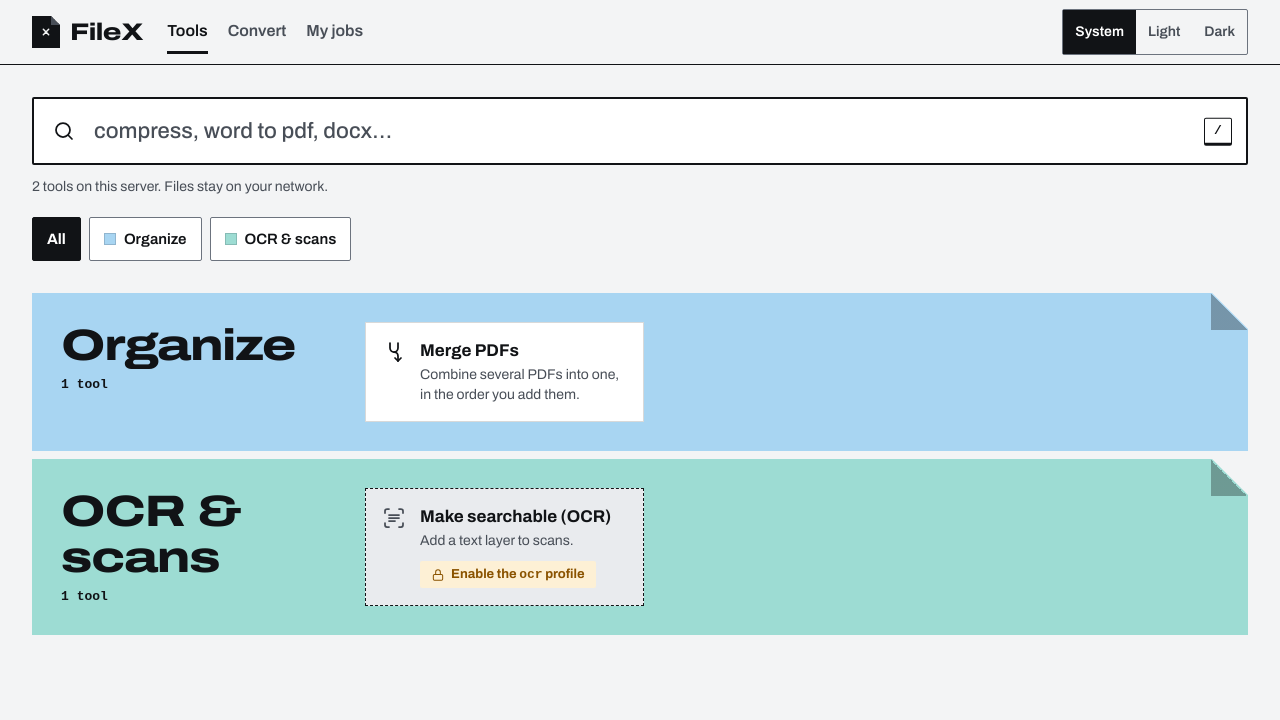
Scenario: catalog › search finds pdf.merge by 'combine' and 'pdf', and says when nothing matches
The image size is (1280, 720).
Expected: the text "Merge PDFs" is shown, [420,341,519,360]
Type "combine" into the search field named "Search tools". click: (640, 131)
box: [32,97,1248,165]
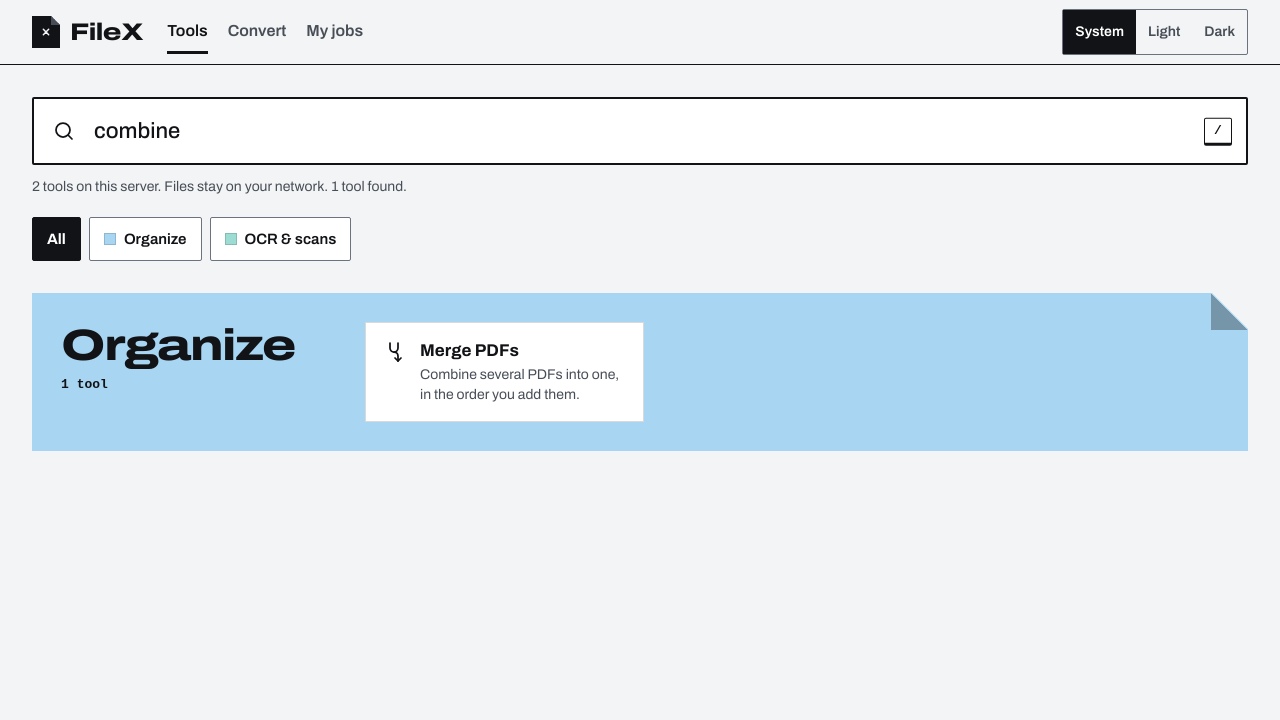
Expected: the text "Merge PDFs" is shown, [420,341,519,360]
Now the link "Make searchable (OCR)" is gone
Now the text "1 tool found." is shown, box [331,179,407,194]
Replace the text in the search field named "Search tools" with "pdf". click: (640, 131)
box: [32,97,1248,165]
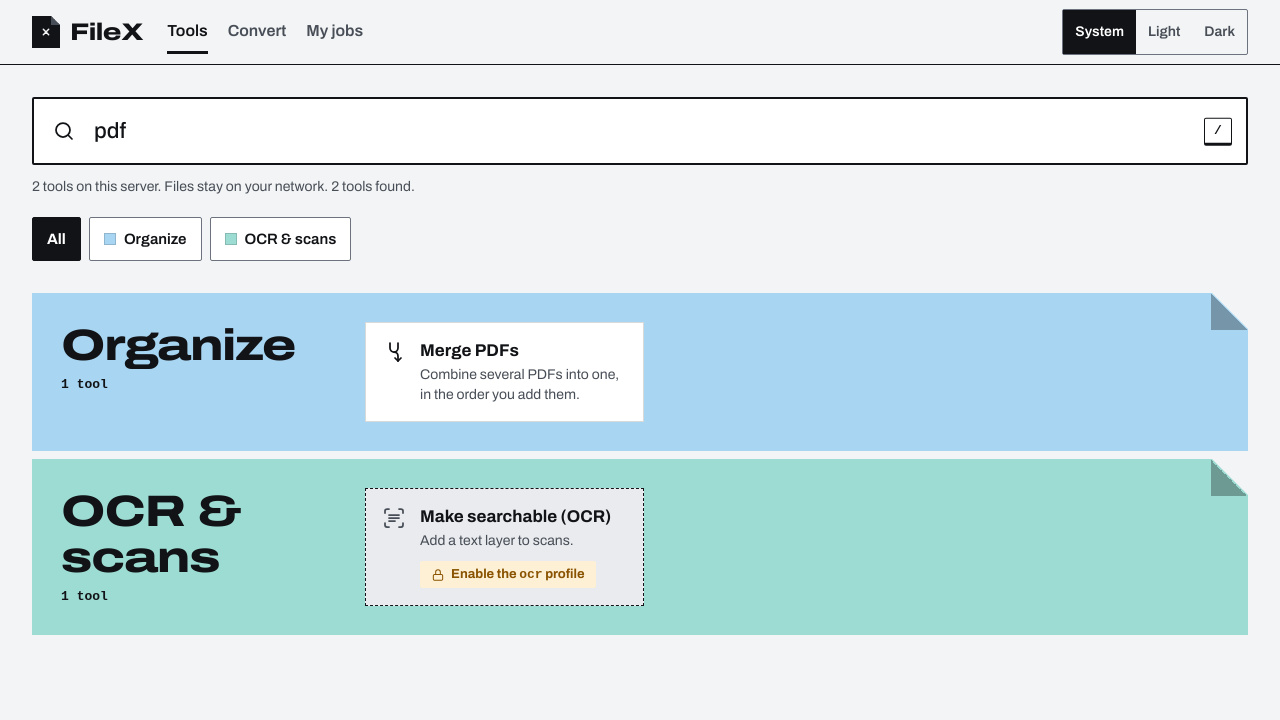
Expected: the text "Merge PDFs" is shown, [420,341,519,360]
Now the text "2 tools found." is shown, box [331,179,415,194]
Replace the text in the search field named "Search tools" with "zzz". click: (640, 131)
box: [32,97,1248,165]
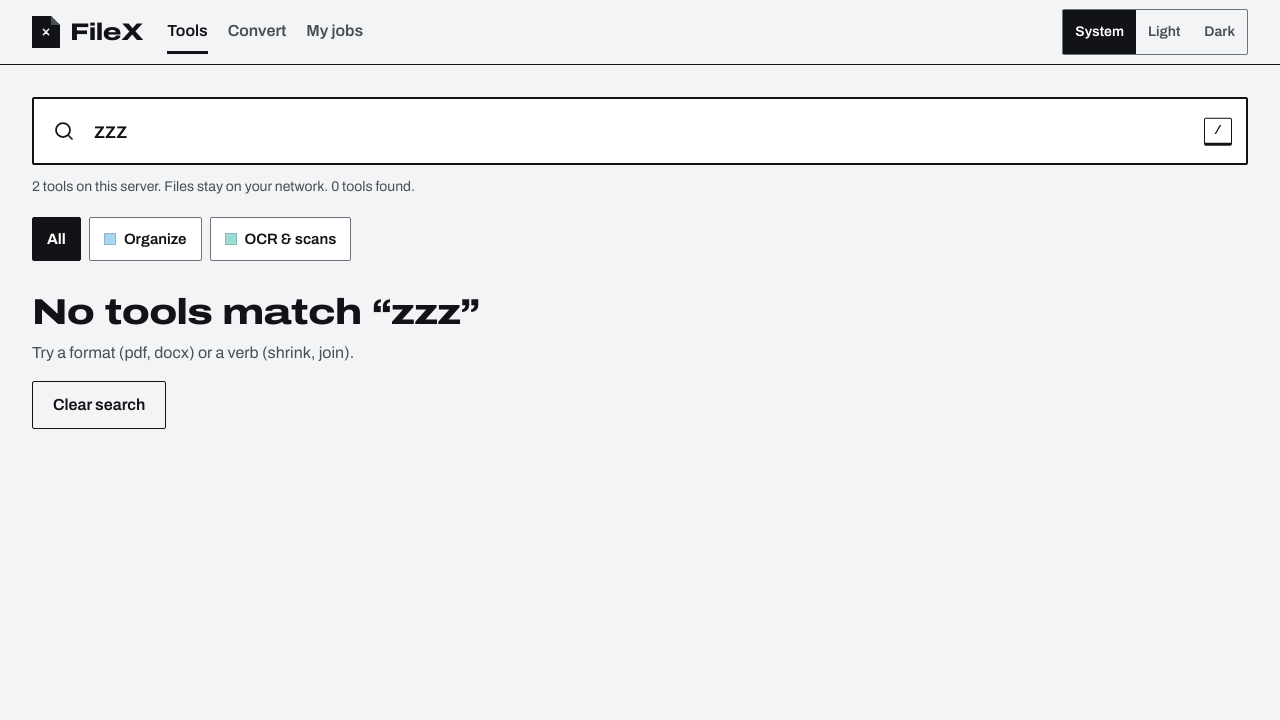
Now the text "No tools match “zzz”" is shown, box [32,292,480,332]
Click the button "Clear search". click: (99, 405)
box: [32,381,166,429]
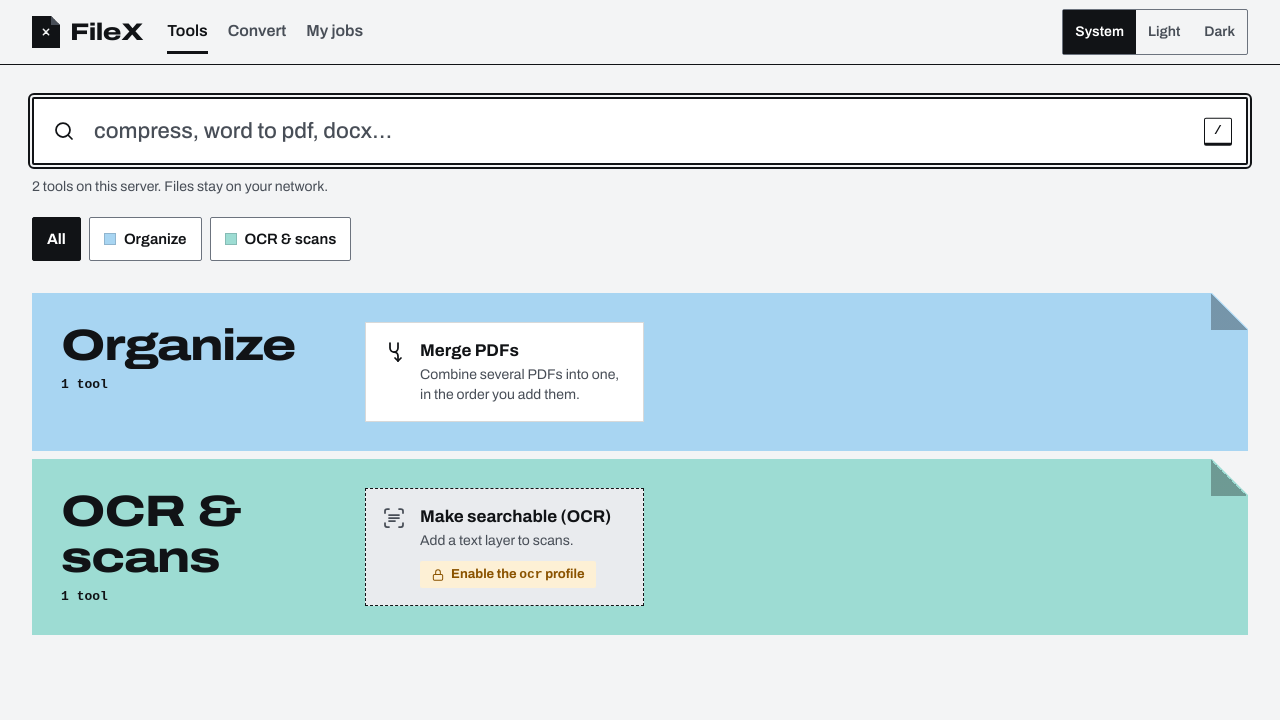
Now the text "Merge PDFs" is shown, box [420,341,519,360]
